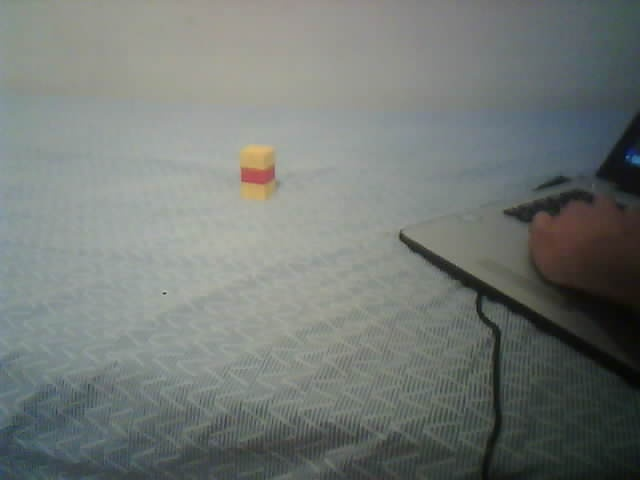lego: (238, 144, 278, 202)
